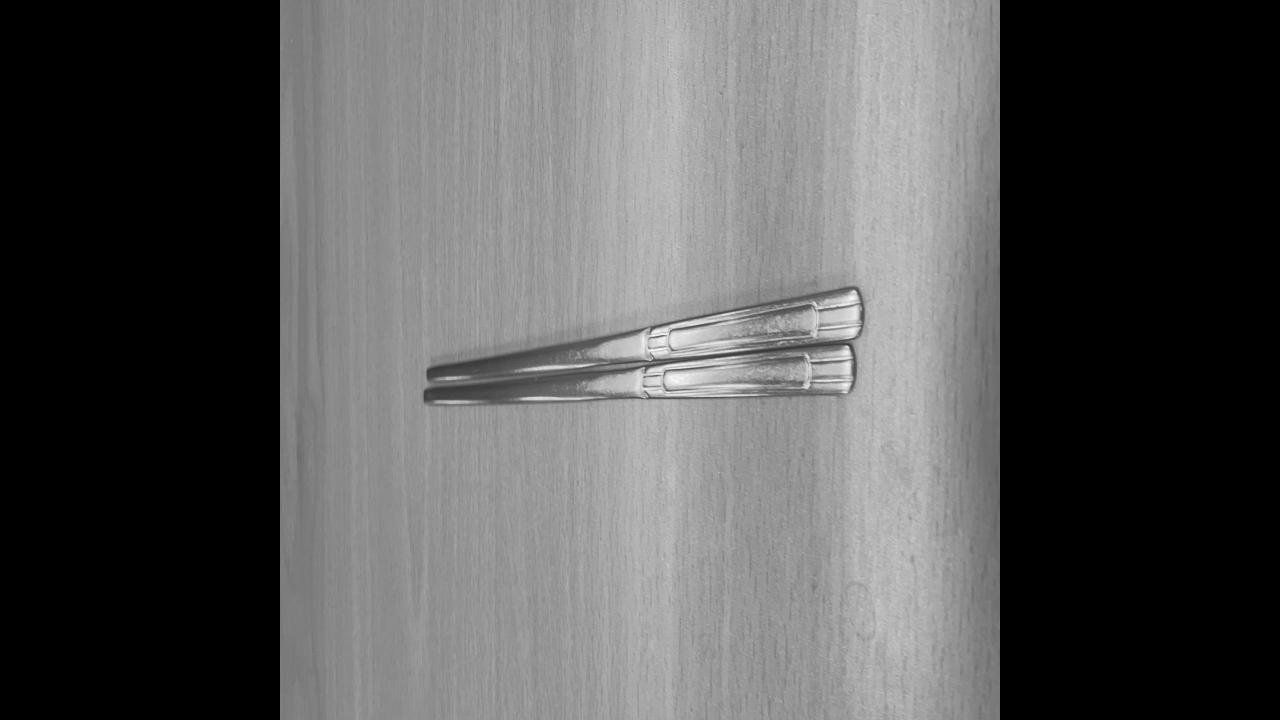chopstick: (424, 287, 860, 407)
